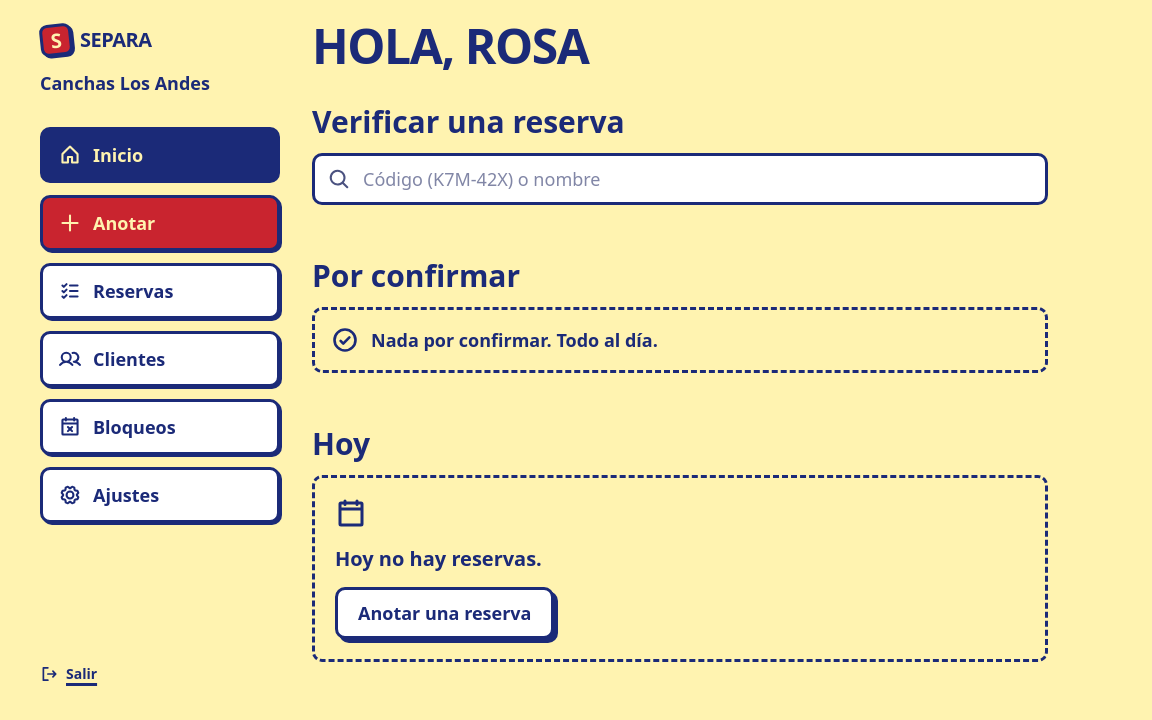
Test: checking a customer who walks in › says so when nothing matches
Type "k7m-42x" into the search field named "Código o nombre de quien llegó" at x=680, y=179, box x1=312 y1=153 x2=1048 y2=205
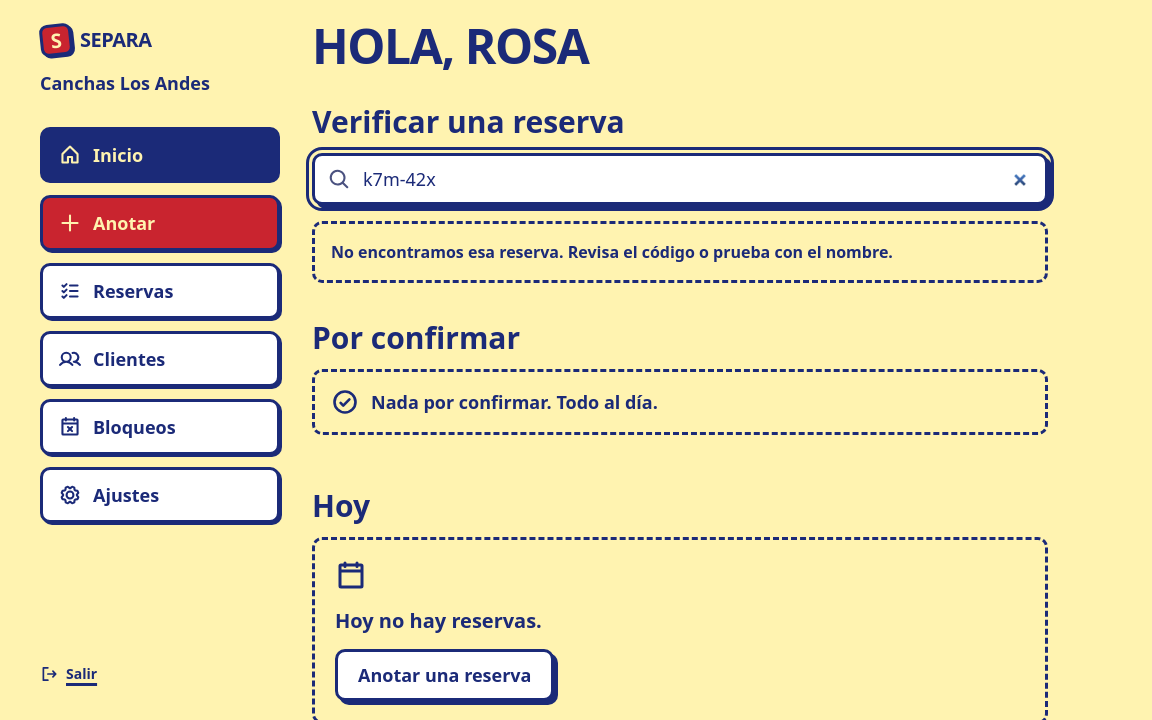
expect the text "No encontramos esa reserva" is shown: met, box x1=331 y1=241 x2=893 y2=263
